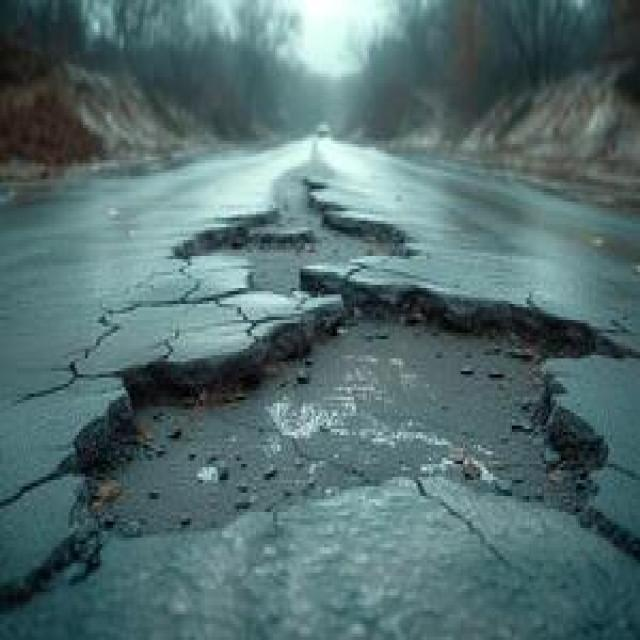road collapse: (0, 73, 638, 640)
